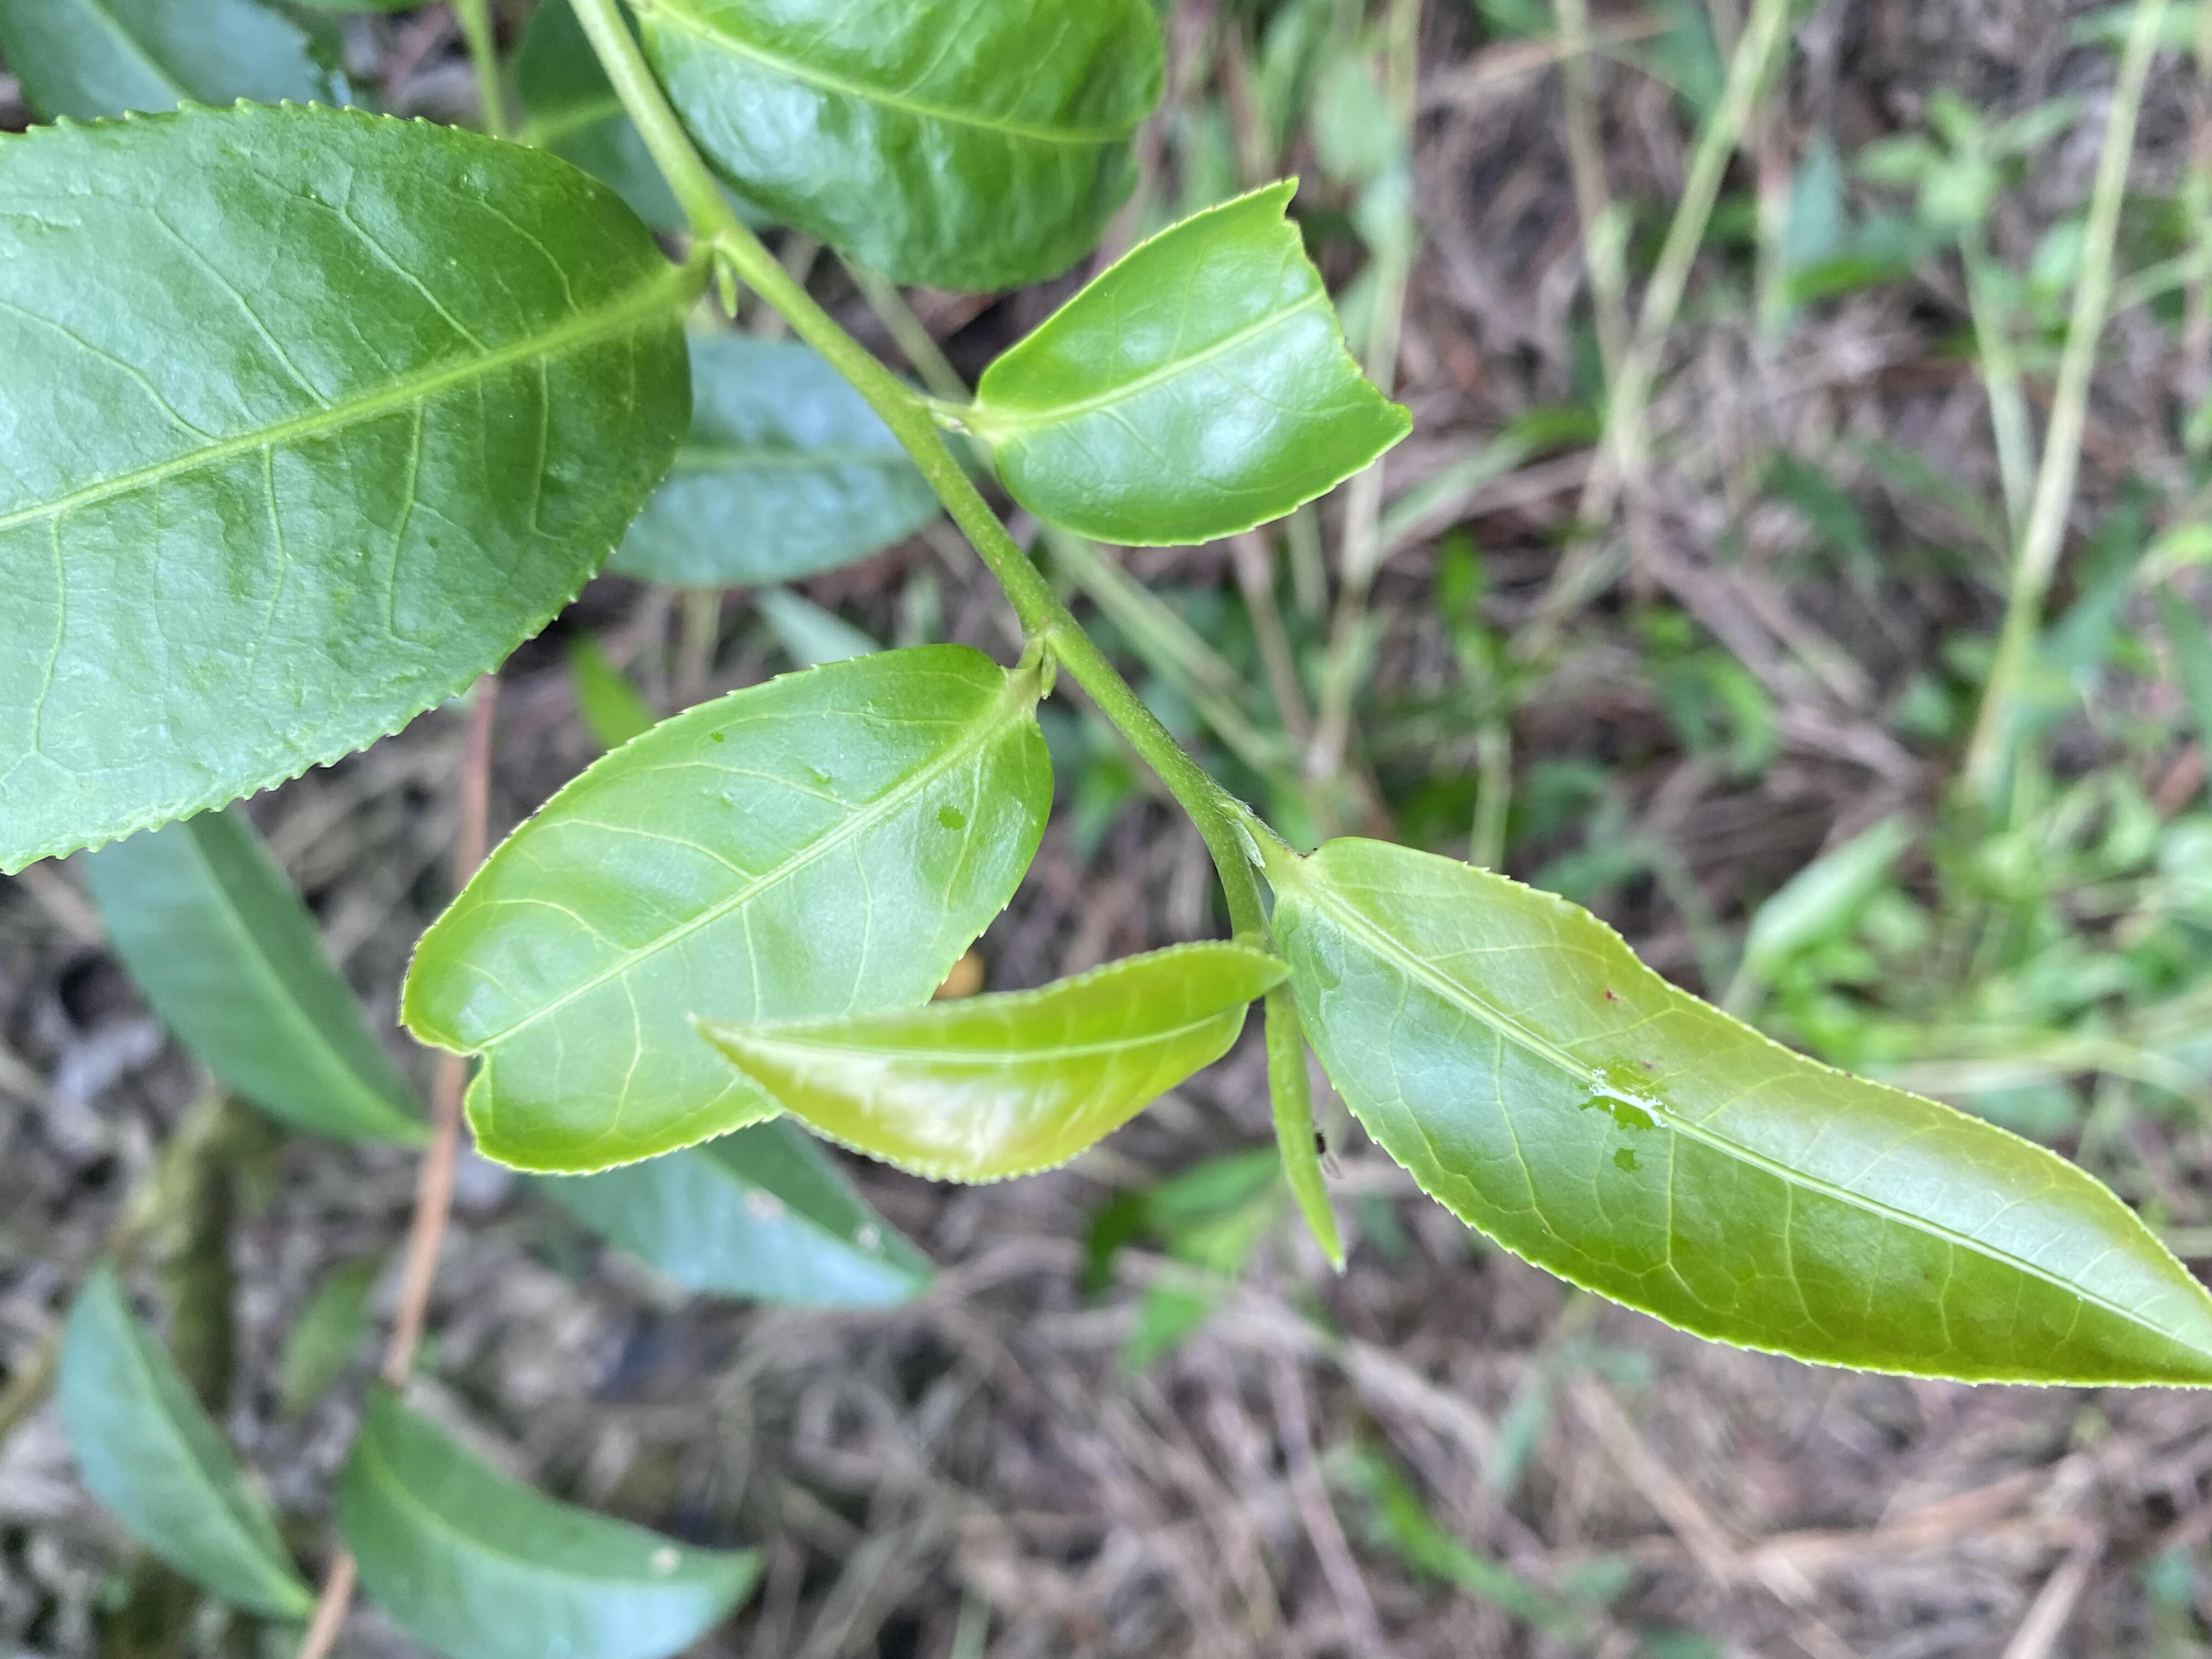chihuo_high: (972, 174, 1414, 547)
healthy: (3, 99, 693, 873), (394, 638, 1059, 1178), (690, 939, 1298, 1182)
tanju_low: (1271, 836, 2207, 1394)
